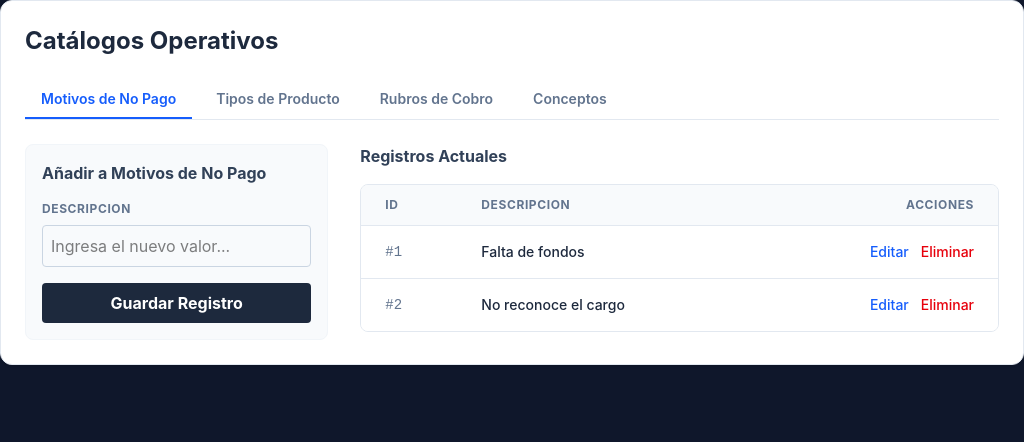
Test case: CatalogosManager: alta › crea el registro con la clave del catalogo activo
Expected: the text "Falta de fondos" is shown, [457,226,759,278]
Type "Sin respuesta" into the field with placeholder "Ingresa el nuevo valor..." at (177, 246), box [42,225,311,267]
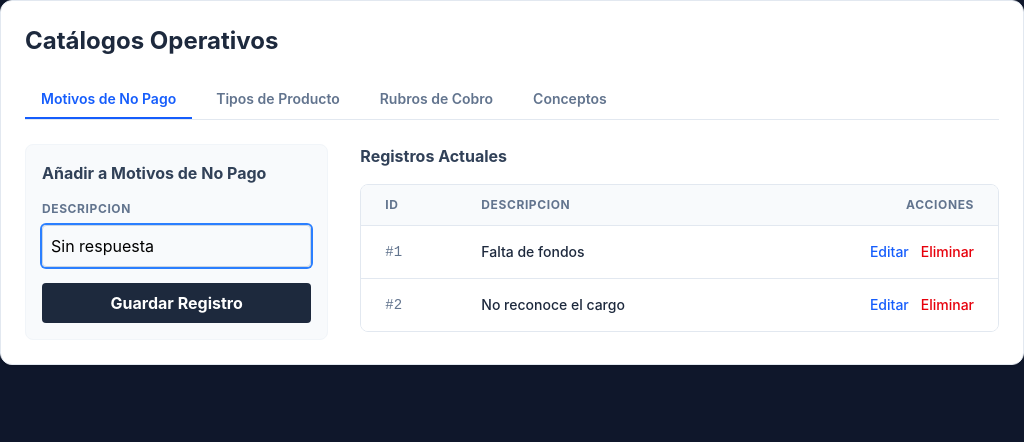
Click the button "Guardar Registro" at (177, 303), box [42,283,311,323]
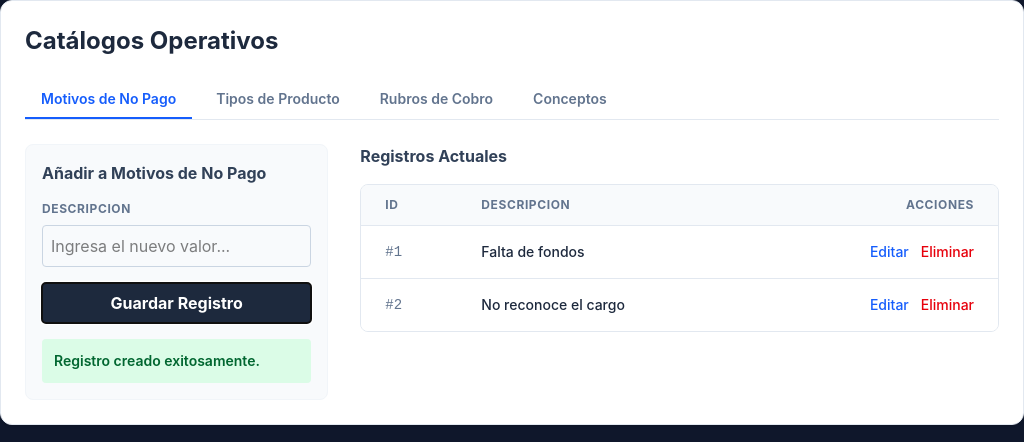
Expected: the text "Registro creado exitosamente." is shown, [42,339,311,383]
Expected: the field with placeholder "Ingresa el nuevo valor..." is empty, [42,225,311,267]
